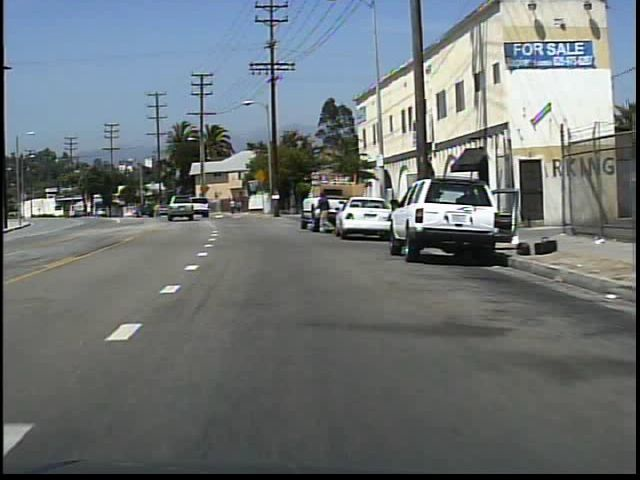person: (316, 186, 341, 238), (229, 197, 239, 218), (236, 199, 244, 216)
